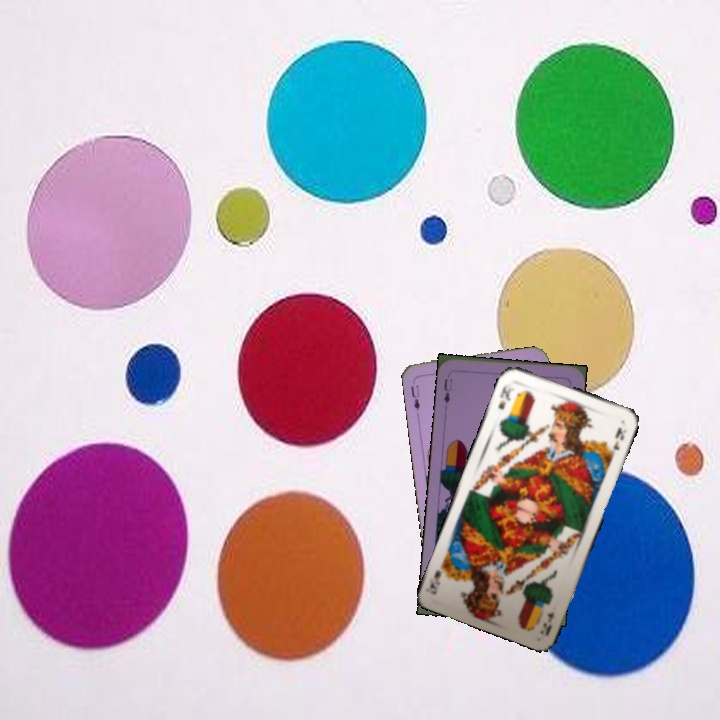EK: (494, 378, 517, 412), (537, 607, 557, 637)
EU: (407, 375, 423, 413), (440, 375, 455, 406)
